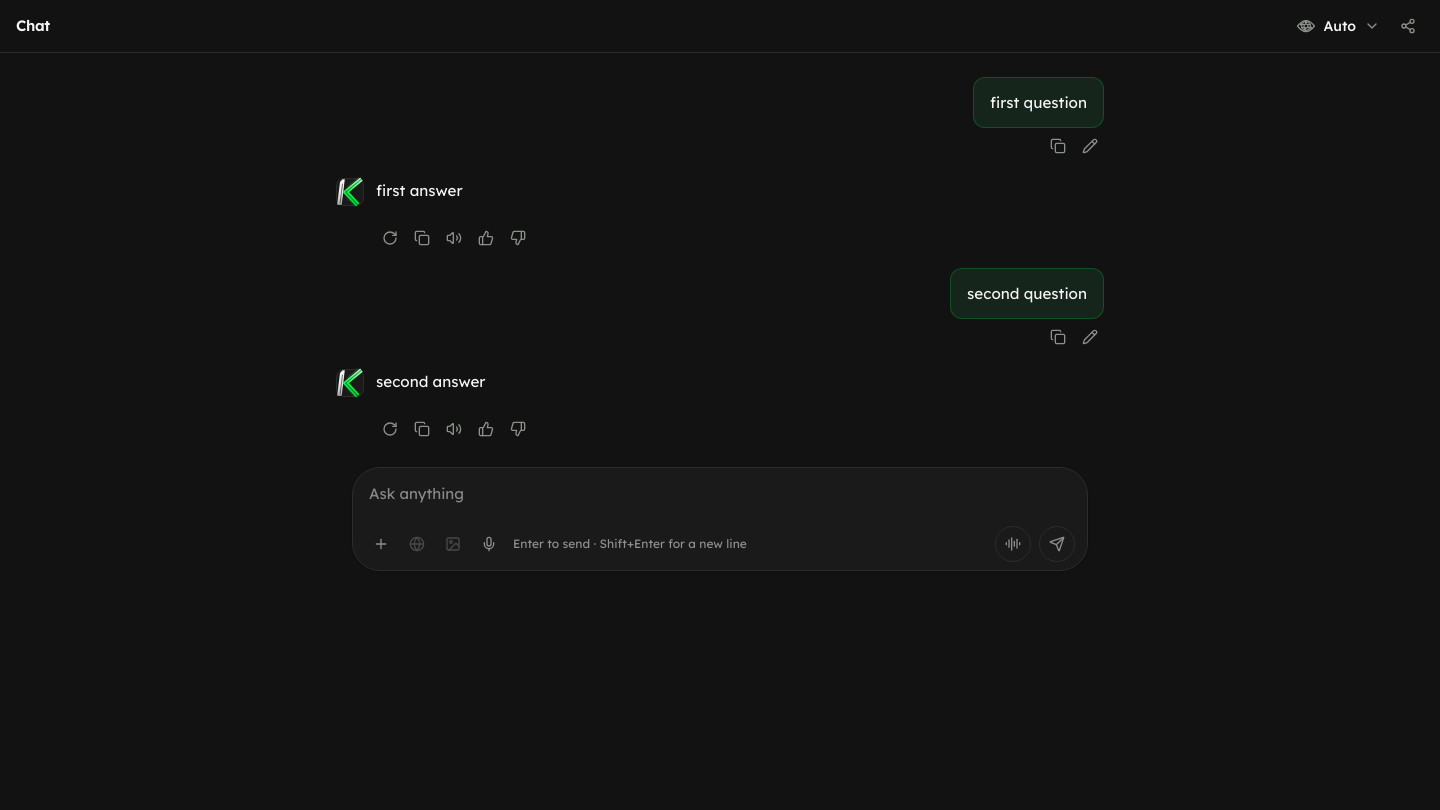
it: ChatPage message editing › appends one new exchange rather than duplicating turns
Expected: the text "first question" is shown, [990,90,1087,115]
Click the button named "Edit message" below "first question": (1090, 146) [1076,132,1104,160]
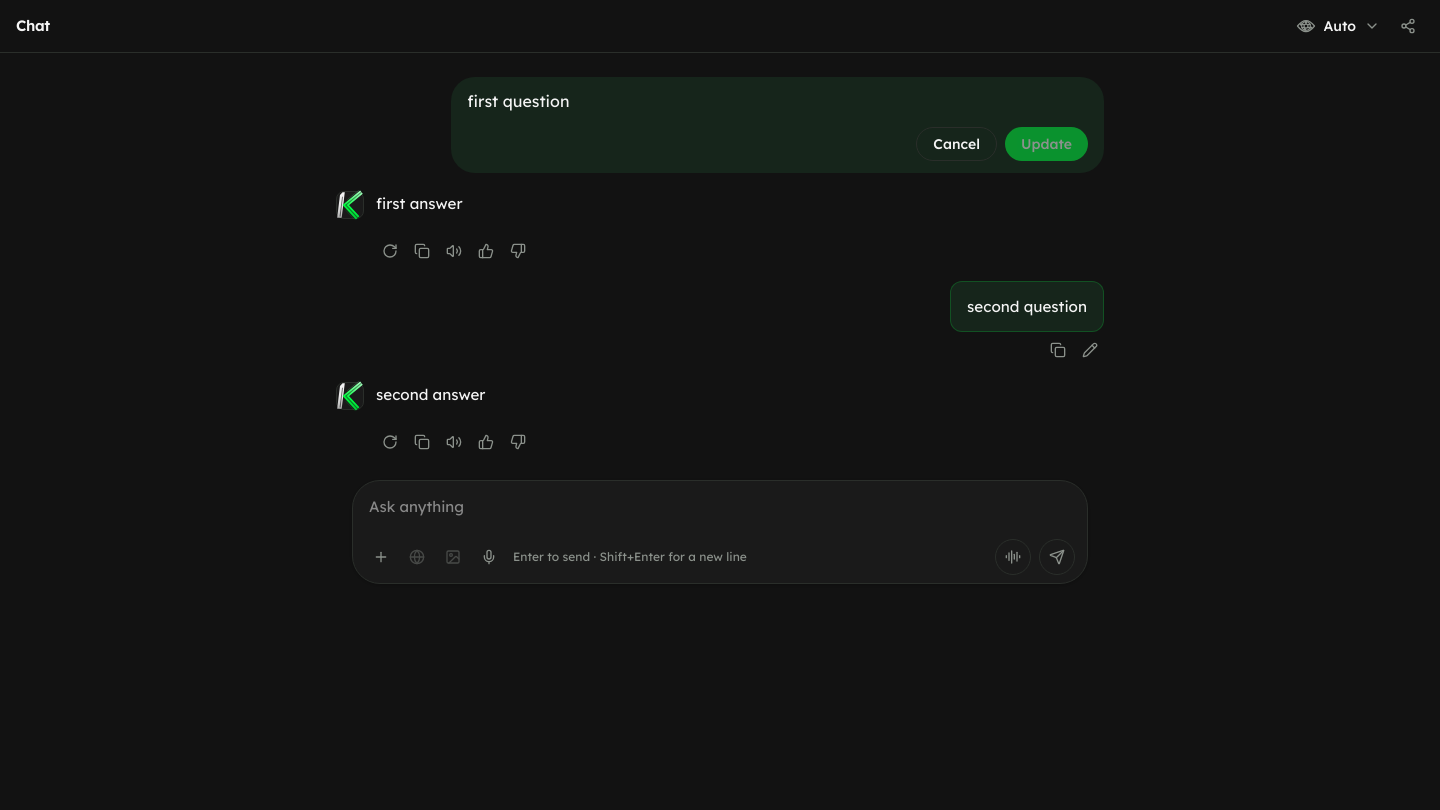
Replace the text in the text box named "Edit your message" with "edited question": (778, 101) [467,89,1088,113]
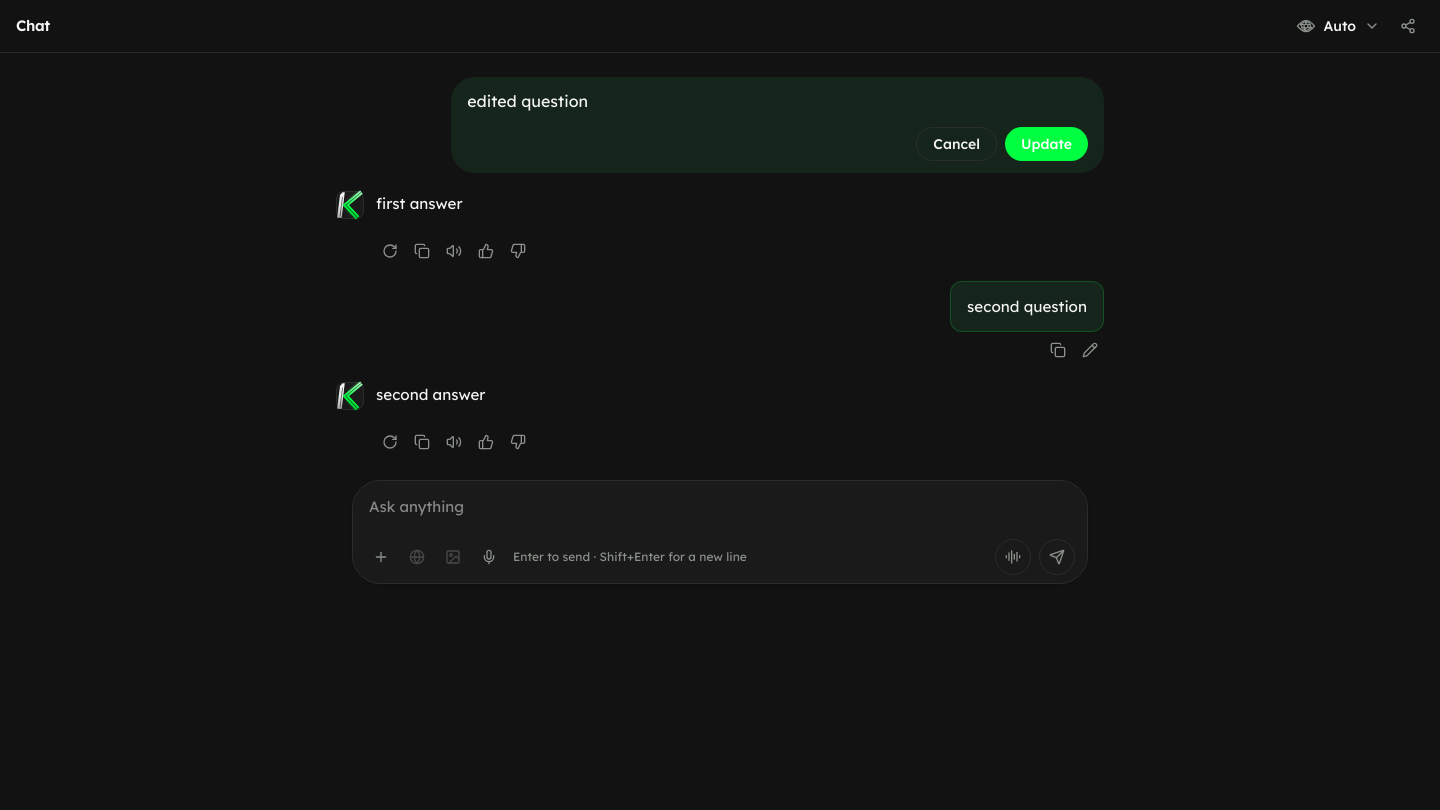
Click the button "Update": (1046, 144) [1005,127,1088,161]
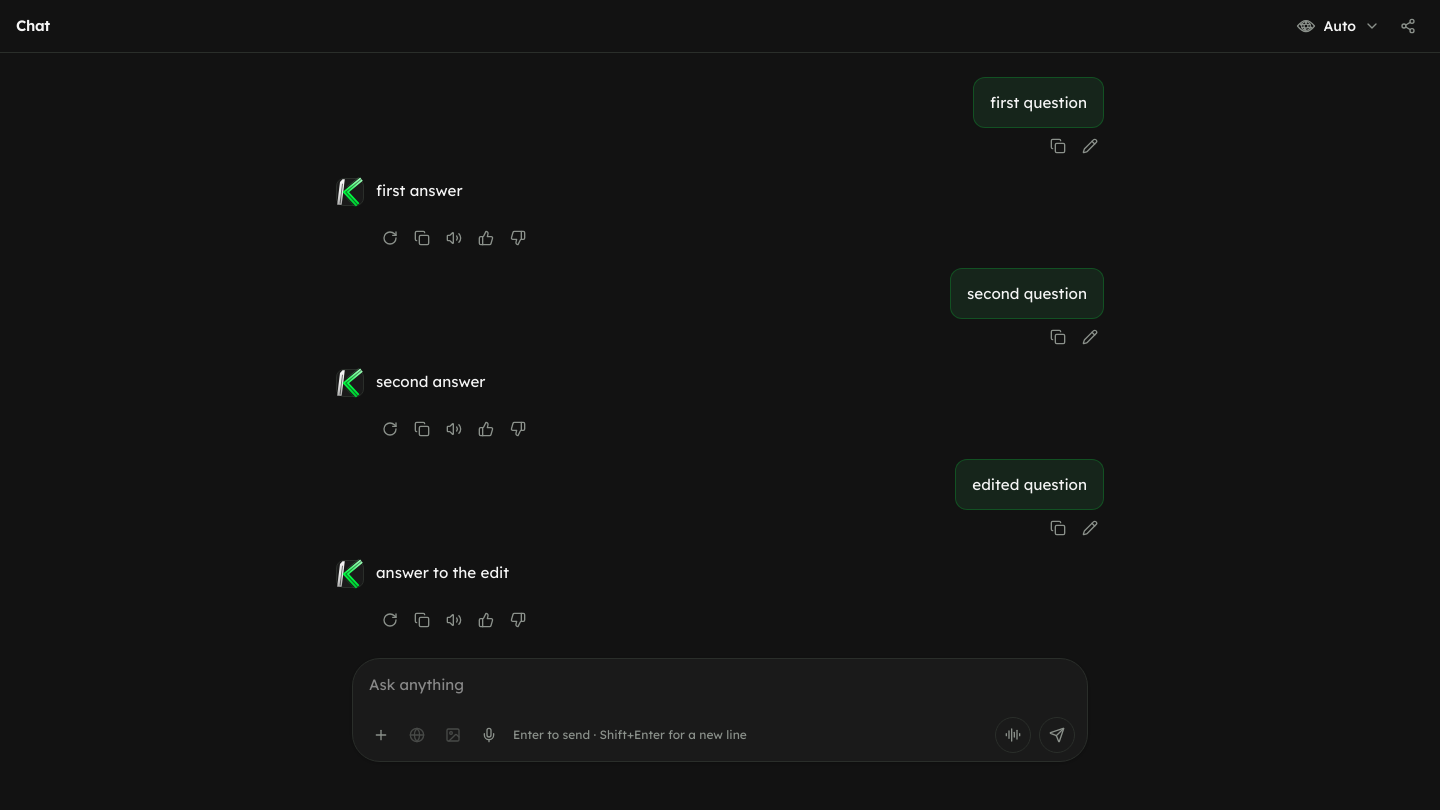
Result: the text "answer to the edit" is shown at [376,563,509,582]
Result: the text "edited question" is shown once at [972,472,1087,497]
Result: the number of buttons named "Copy" is 3 at [408,224,436,252]; [408,415,436,443]; [408,606,436,634]
